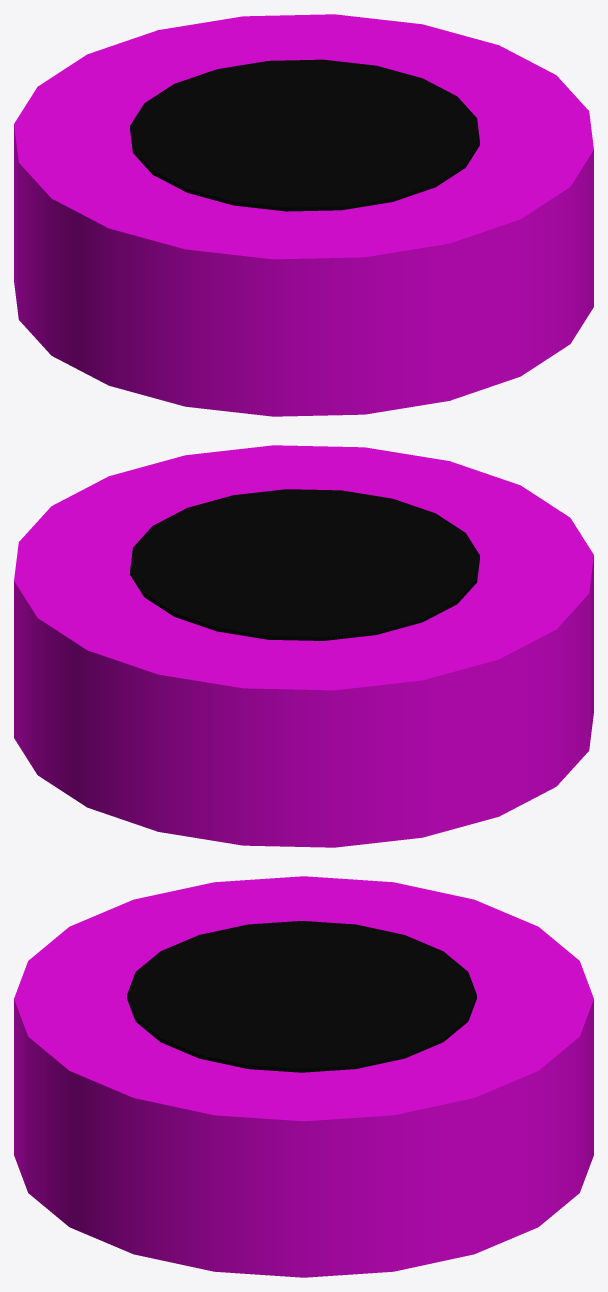
File: Pink Coin P.fbx
3 renders of one model, top to bottom at view 1: azimuth 30°, elevation 25°; view 2: azimuth 150°, elevation 25°; view 3: azimuth 270°, elevation 25°, orthographic.
Visible parts, largest first — view 1: pCylinder1, pCylinder2; view 2: pCylinder1, pCylinder2; view 3: pCylinder1, pCylinder2.
Part boxes in pixels (x1=…): pCylinder1: x1=14, y1=14, x2=593, y2=416; pCylinder2: x1=130, y1=59, x2=479, y2=211; pCylinder1: x1=14, y1=445, x2=593, y2=847; pCylinder2: x1=130, y1=489, x2=479, y2=640; pCylinder1: x1=14, y1=876, x2=593, y2=1277; pCylinder2: x1=127, y1=921, x2=476, y2=1072.
Bounding box in the file's own units: 2 × 0.6103 × 2.
